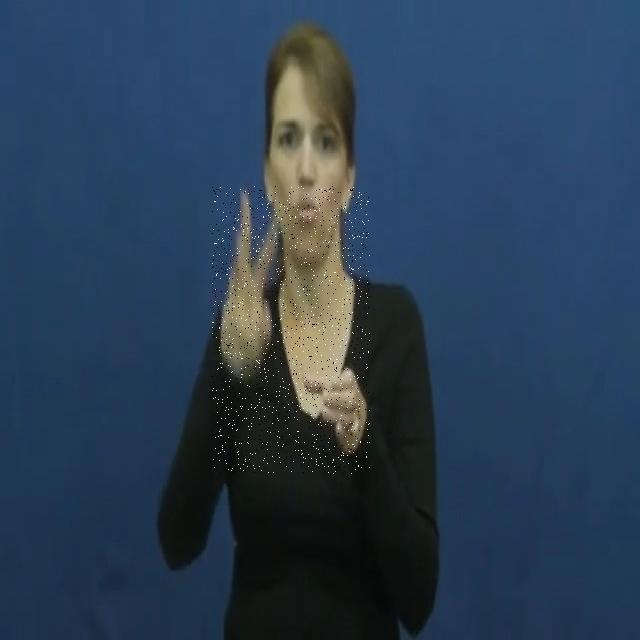straw: (212, 186, 370, 474)
